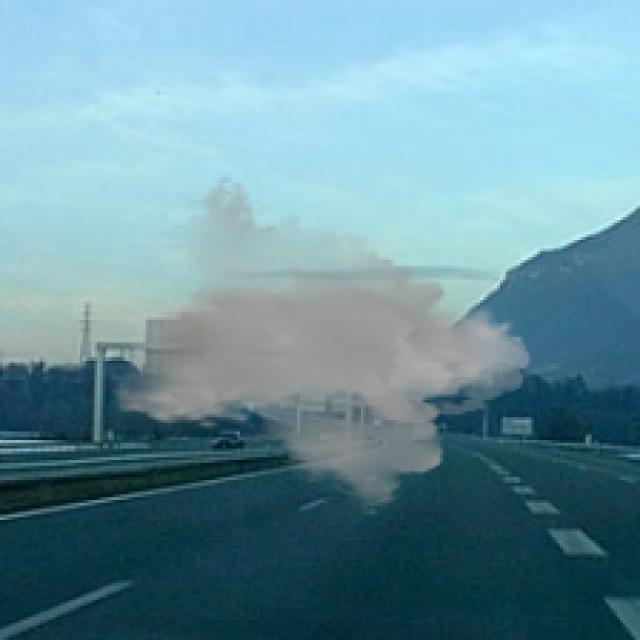Smoke: (111, 174, 532, 517)
